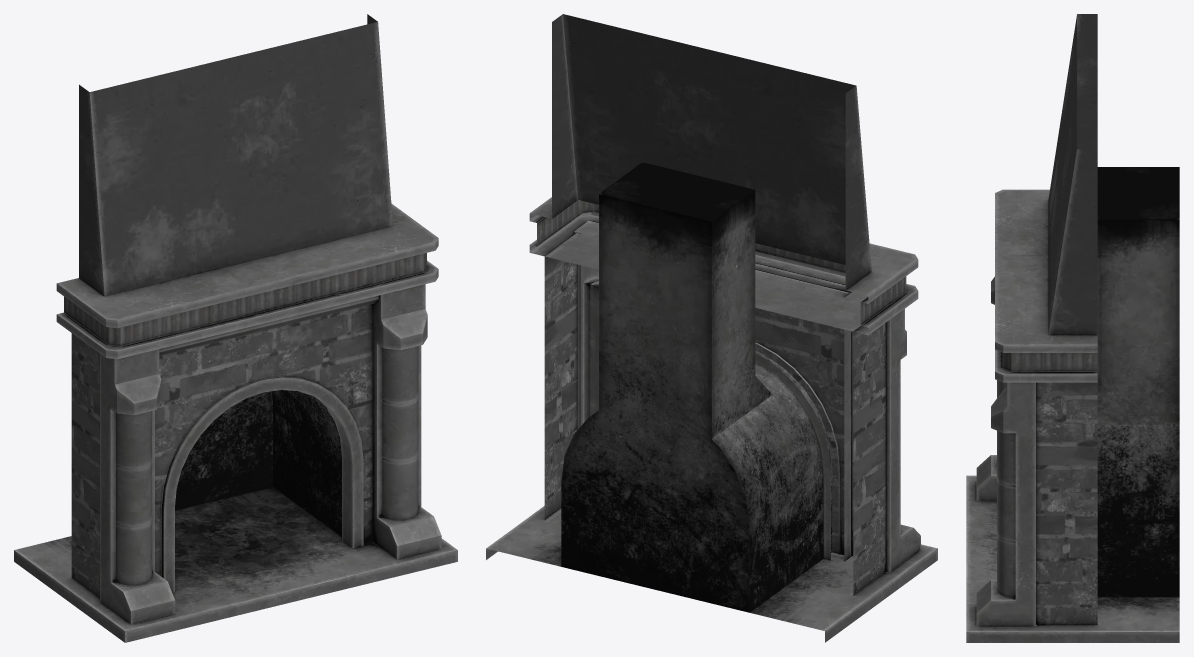
The model's file is pian_fireplace.glb.
3 views of the same model, side by side, from view 1: azimuth 30°, elevation 25°; view 2: azimuth 150°, elevation 25°; view 3: azimuth 270°, elevation 25° (orthographic). The views are drawn at different scales.
Visible parts, largest first — view 1: Object_2; view 2: Object_2; view 3: Object_2.
Boxes of the visible parts, bbox=[...] form: Object_2: bbox=[14, 14, 457, 642]; Object_2: bbox=[486, 14, 937, 642]; Object_2: bbox=[966, 14, 1179, 642].
Size of the model in its own units: 0.9692 by 1.4 by 0.56.
1 material, 1 textured.
